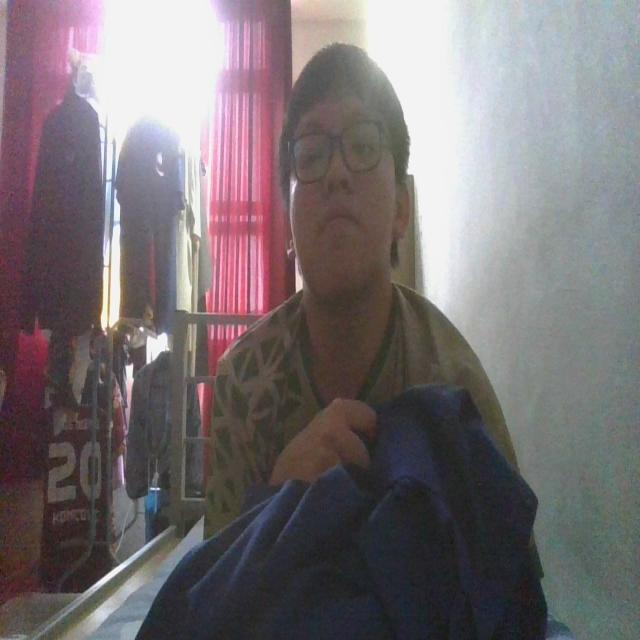person_without_labcoat: (136, 44, 546, 639)
